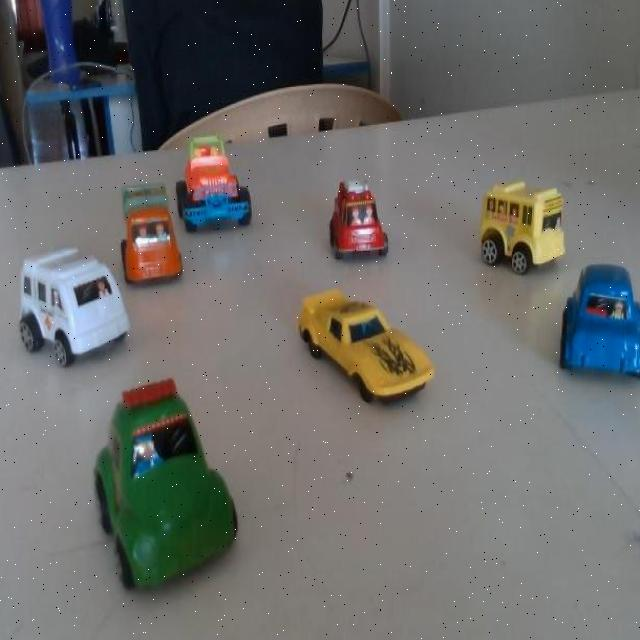car: (73, 383, 233, 574), (287, 276, 438, 414), (11, 237, 125, 377), (557, 260, 640, 388), (469, 179, 558, 282), (112, 170, 183, 291), (180, 126, 262, 230), (316, 168, 388, 272)
